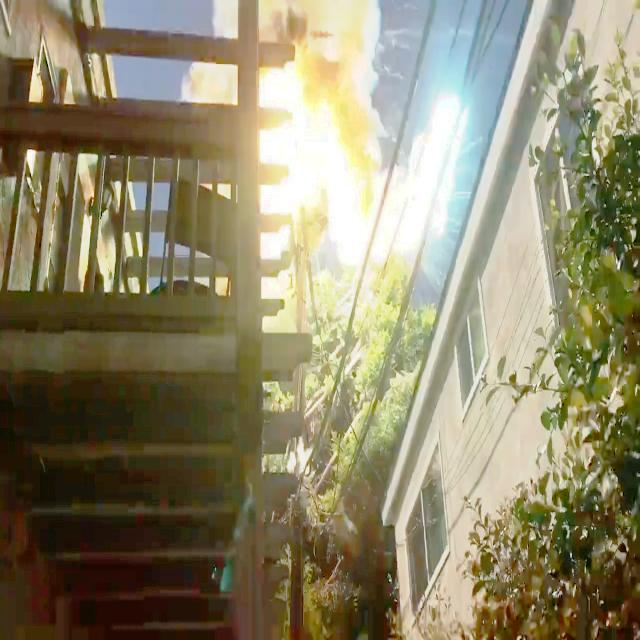obstruction: (260, 0, 428, 266), (371, 95, 466, 261)
poles: (280, 208, 342, 332), (290, 424, 309, 639), (293, 364, 304, 422)
